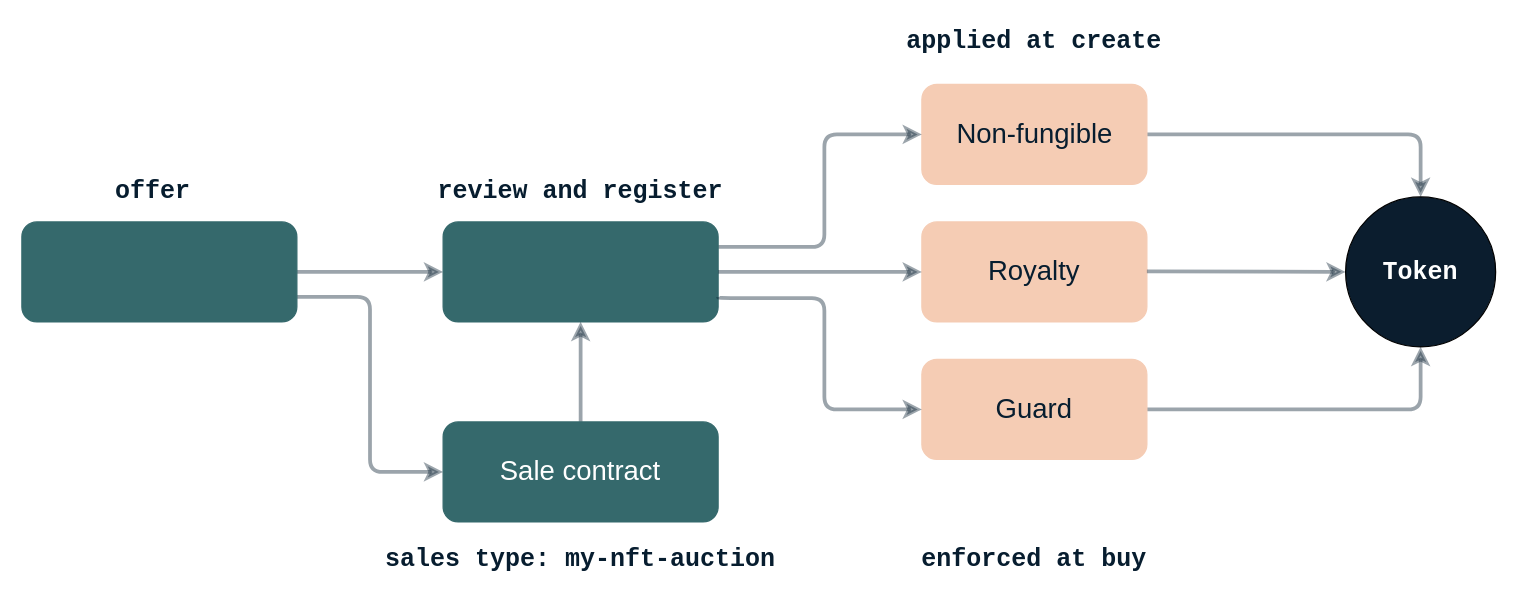
Image size: 1518x599. Some labels were removed from this diagram. Each missing label, with the box of its shape:
Ledger: (21, 221, 297, 322)
Policy manager: (442, 221, 718, 322)
